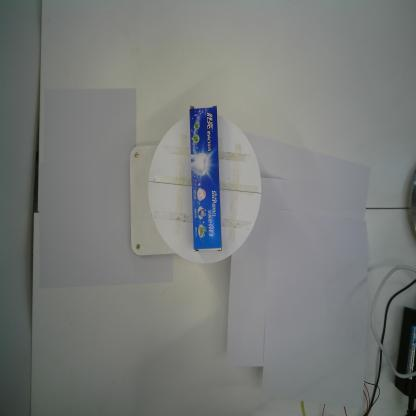Personal Hygiene: (187, 103, 223, 255)
